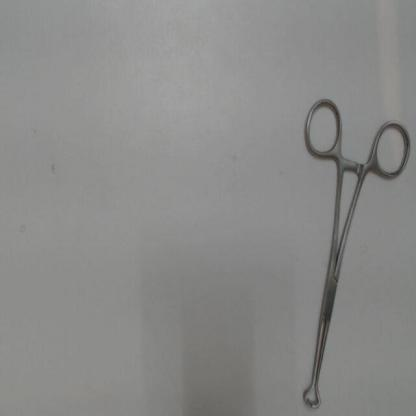Babcock Tissue Forceps: (299, 90, 414, 412)
